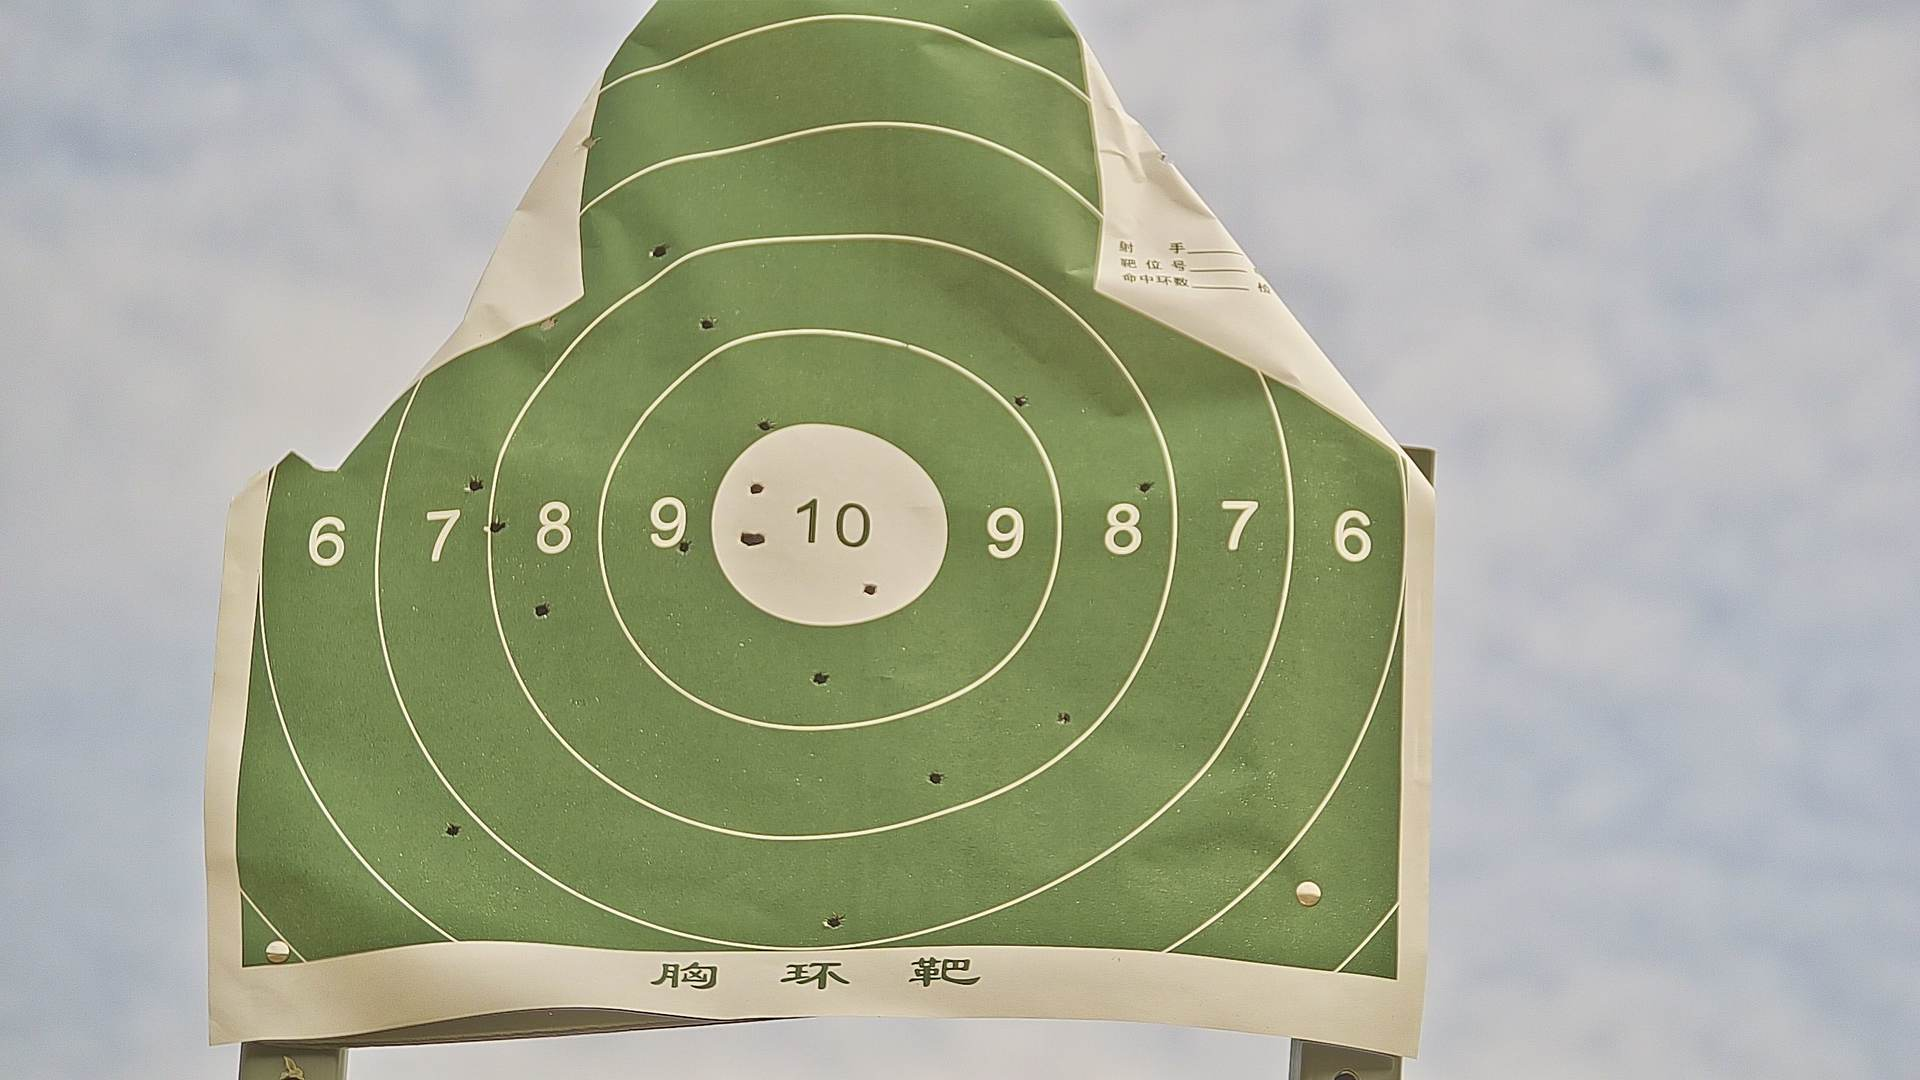hole: (465, 477, 484, 495), (533, 604, 551, 621), (651, 244, 669, 261), (541, 315, 556, 334), (926, 770, 944, 786), (812, 670, 829, 686), (1137, 480, 1155, 495), (487, 520, 506, 533), (824, 915, 844, 928), (1011, 394, 1029, 409), (698, 318, 716, 328), (758, 419, 773, 433), (753, 534, 766, 549), (444, 823, 458, 837), (749, 483, 765, 495), (676, 541, 688, 556), (740, 533, 752, 547), (584, 136, 599, 148), (1058, 712, 1071, 724), (864, 583, 878, 593)
kernel: (825, 520, 829, 526)
target: (236, 3, 1407, 984)
ten: (708, 419, 949, 629)
